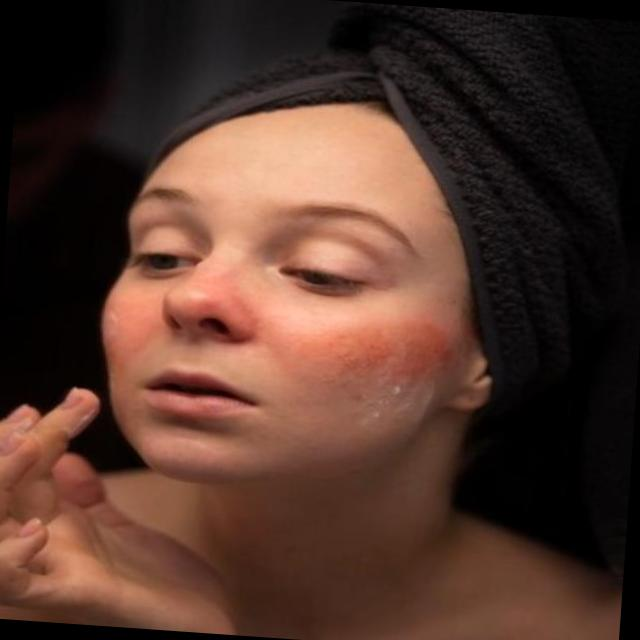redness: (289, 313, 456, 385), (104, 335, 130, 379)
